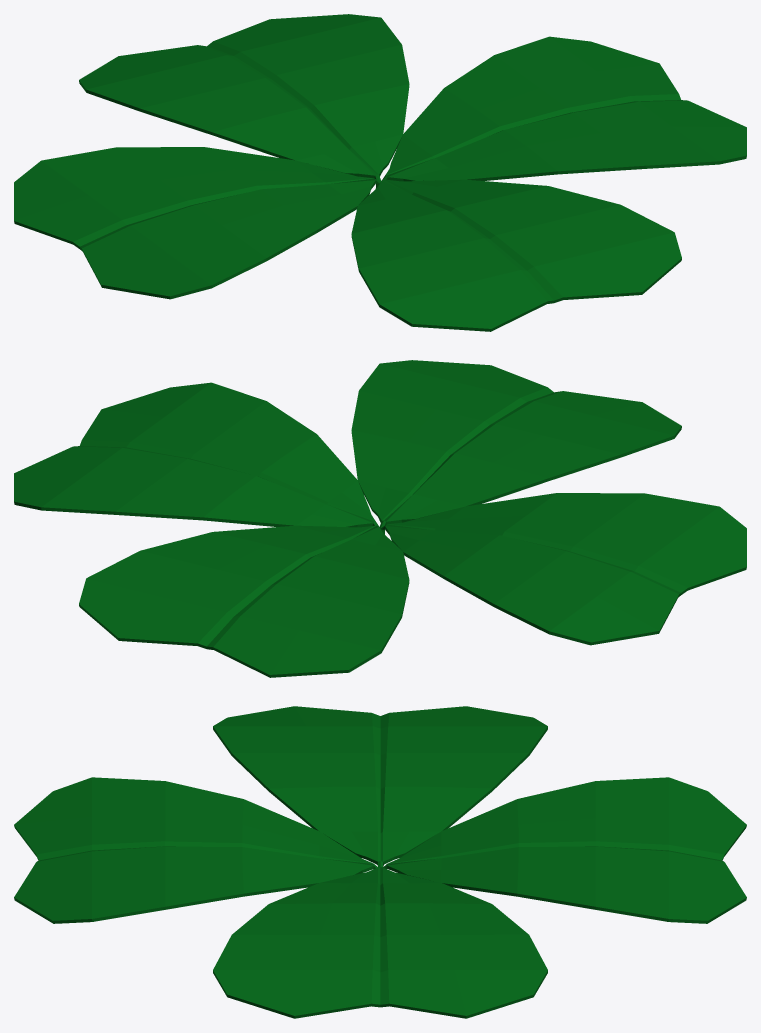
File: clover.fbx
3 renders of one model, top to bottom at view 1: azimuth 30°, elevation 25°; view 2: azimuth 150°, elevation 25°; view 3: azimuth 270°, elevation 25°, orthographic.
Parts seen in each view (by area): view 1: clover:Mesh; view 2: clover:Mesh; view 3: clover:Mesh.
Part boxes in pixels (left/top/right/bottom): clover:Mesh: left=14, top=14, right=746, bottom=331; clover:Mesh: left=14, top=360, right=746, bottom=677; clover:Mesh: left=14, top=706, right=746, bottom=1018.
Bounding box in the file's own units: 2.2 × 0.1462 × 2.2.
